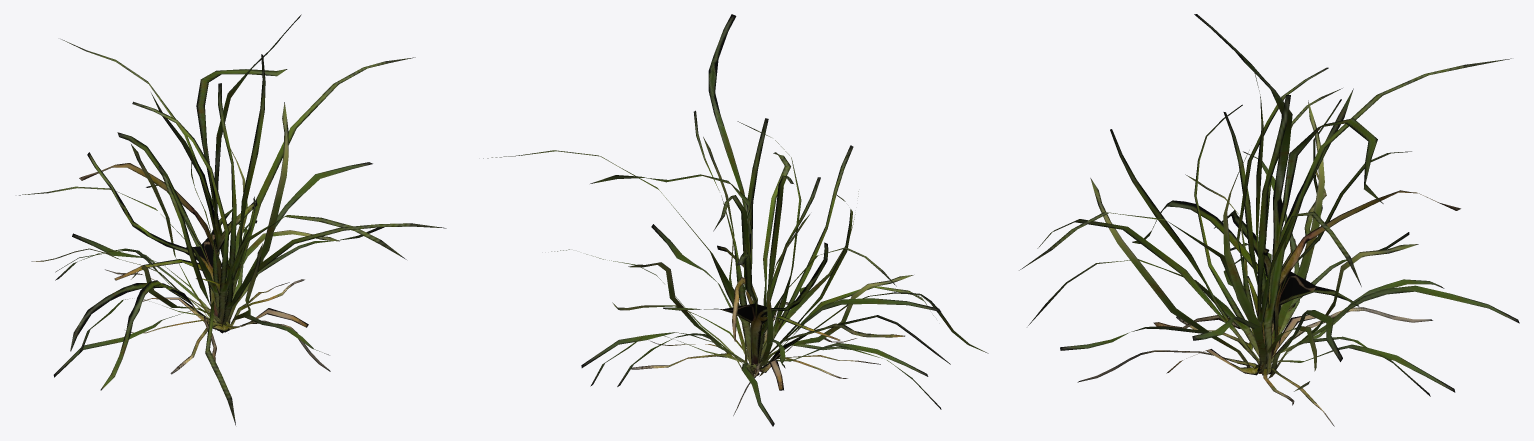
Rendered from grass_small.glb.
3 views of the same model, side by side, from view 1: azimuth 30°, elevation 25°; view 2: azimuth 150°, elevation 25°; view 3: azimuth 270°, elevation 25° (orthographic). The views are drawn at different scales.
Parts seen in each view (by area): view 1: export_grass_small; view 2: export_grass_small; view 3: export_grass_small.
Part boxes in pixels (x1,y1,x2,y2): export_grass_small: (19, 14, 446, 425); export_grass_small: (483, 14, 988, 426); export_grass_small: (1019, 14, 1519, 426).
Size of the model in its own units: 0.1848 by 0.1404 by 0.1623.
Materials: 1 (1 with a texture image).
